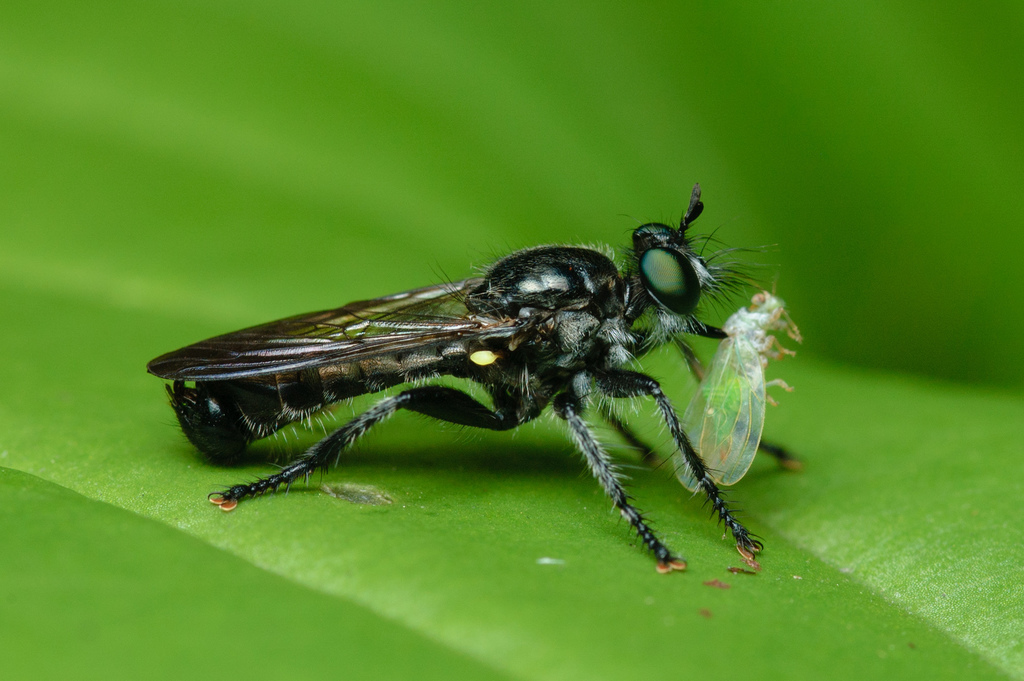not_bumblebee: (144, 181, 808, 576)
